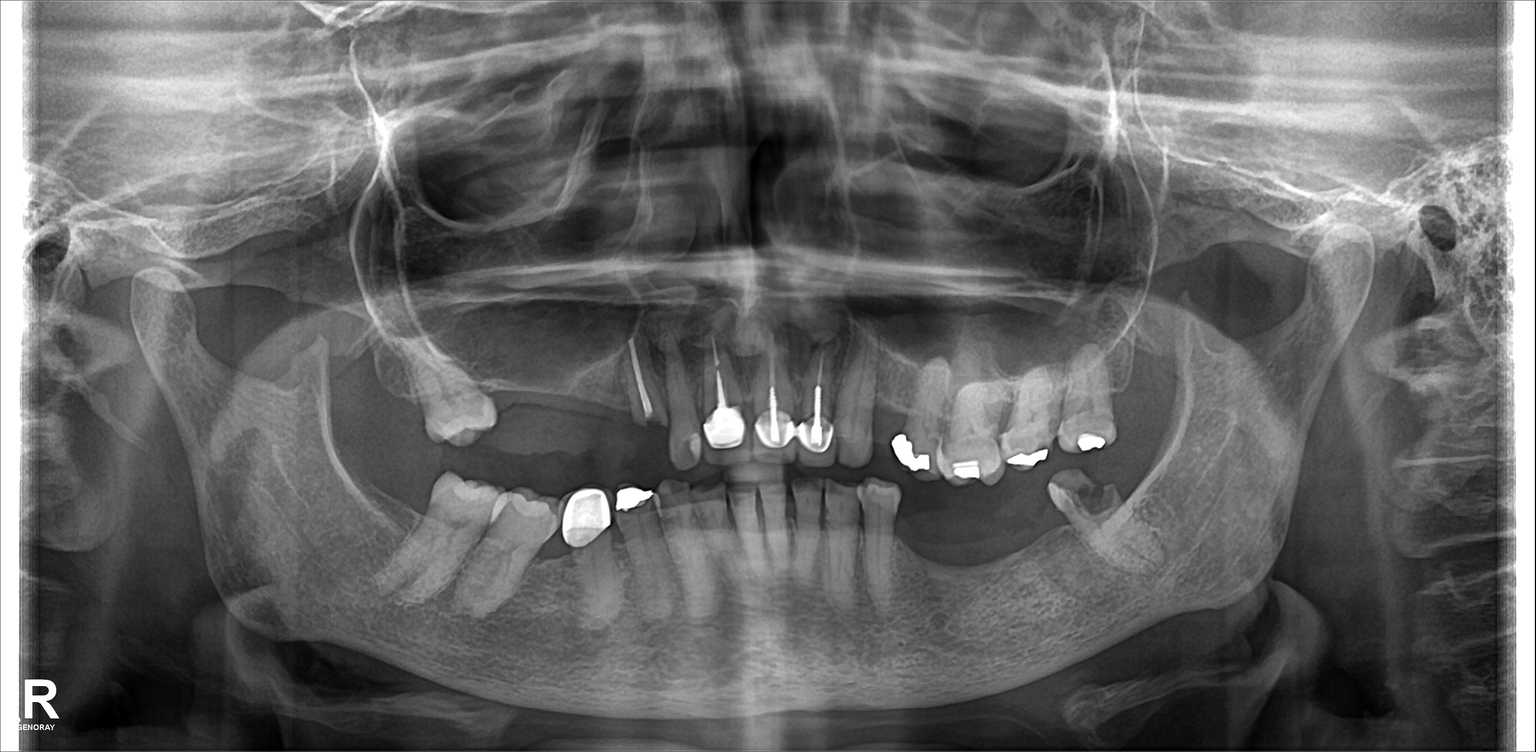Dental Caries: (1065, 477, 1117, 517)
Endodontically Treated Tooth: (568, 488, 618, 643), (620, 493, 670, 623), (708, 346, 755, 454), (615, 344, 669, 429), (752, 346, 787, 457), (805, 350, 834, 460)
Missing Tooth: (479, 341, 539, 435), (318, 328, 371, 431), (367, 337, 422, 435), (1119, 342, 1165, 442), (544, 346, 587, 445), (387, 465, 428, 562), (911, 491, 948, 597), (330, 460, 369, 559), (1004, 490, 1038, 590), (1138, 456, 1175, 545), (955, 495, 988, 588), (596, 348, 624, 450)
